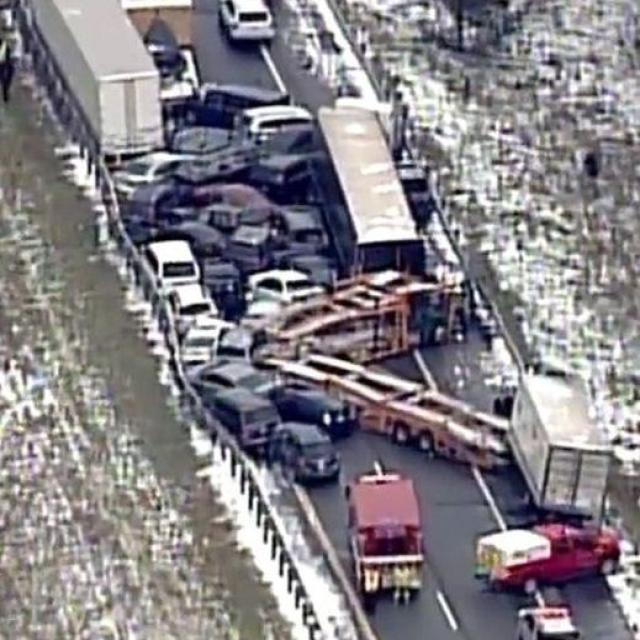traffic_incident: (130, 152, 494, 476)
